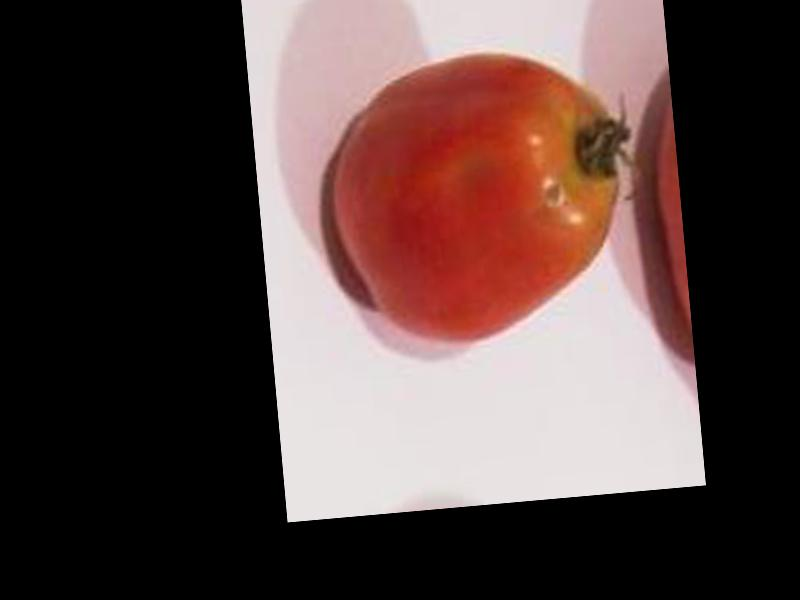Tomato: (328, 44, 635, 351)
